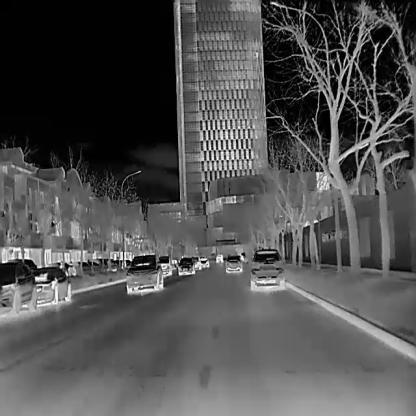car: (0, 261, 36, 312), (126, 254, 163, 293), (248, 248, 284, 288), (33, 266, 70, 303), (224, 254, 242, 272), (157, 255, 172, 276), (177, 256, 194, 274), (191, 255, 201, 270), (199, 256, 209, 268)
